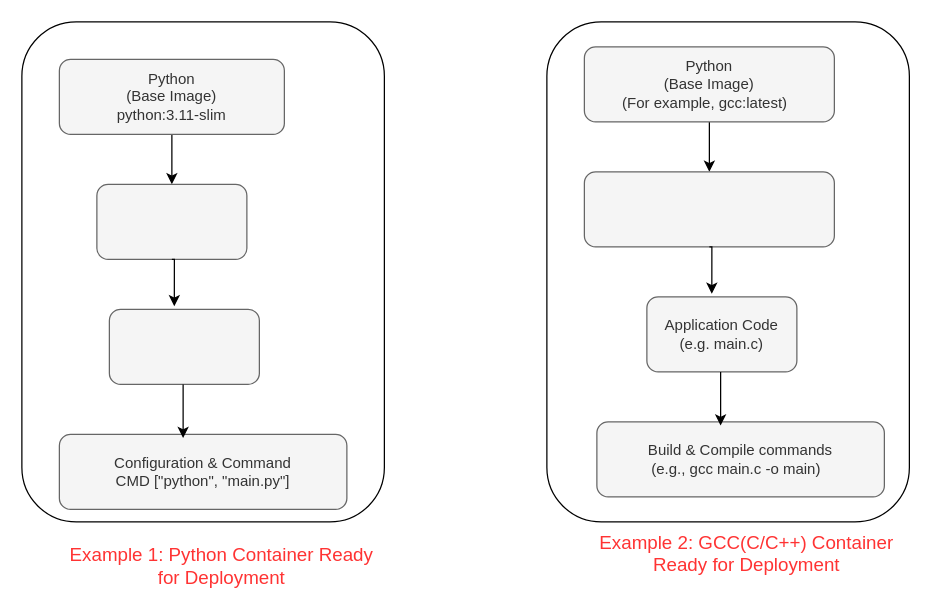
Image size: 931x610. Some labels were removed from this diagram. The shapes that lost their labels are listed below. From the top down, each one's centre as x and y in pixels, then its label:
the point at 171,221: Extra Modules (e.g. OpenCV)
the point at 708,209: Extra Modules (e.g., libssl-dev for SSL)
the point at 183,346: Application Code (e.g. main.py)
